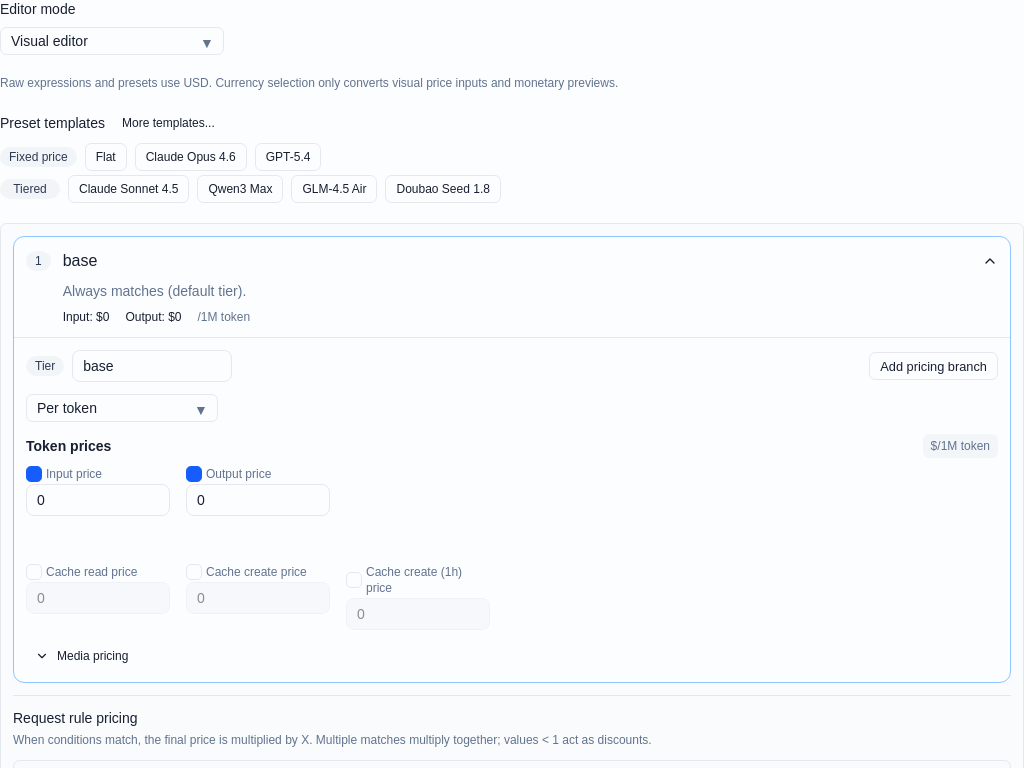
Test: uses condition trees by default without changing pricing:
Check: the button "Add pricing branch" is shown, box [869,352,998,380]
Click the dropdown named "Editor mode" at (112, 41), box [0,27,224,55]
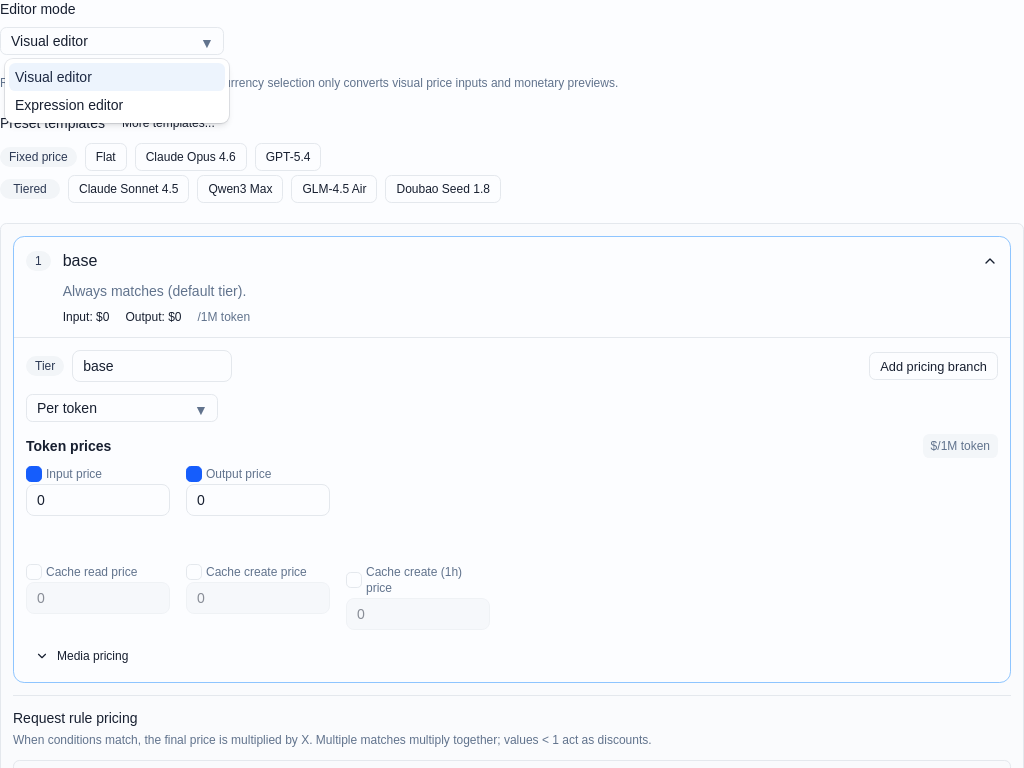
Click the option "Expression editor" at (69, 105), box [15,97,123,113]
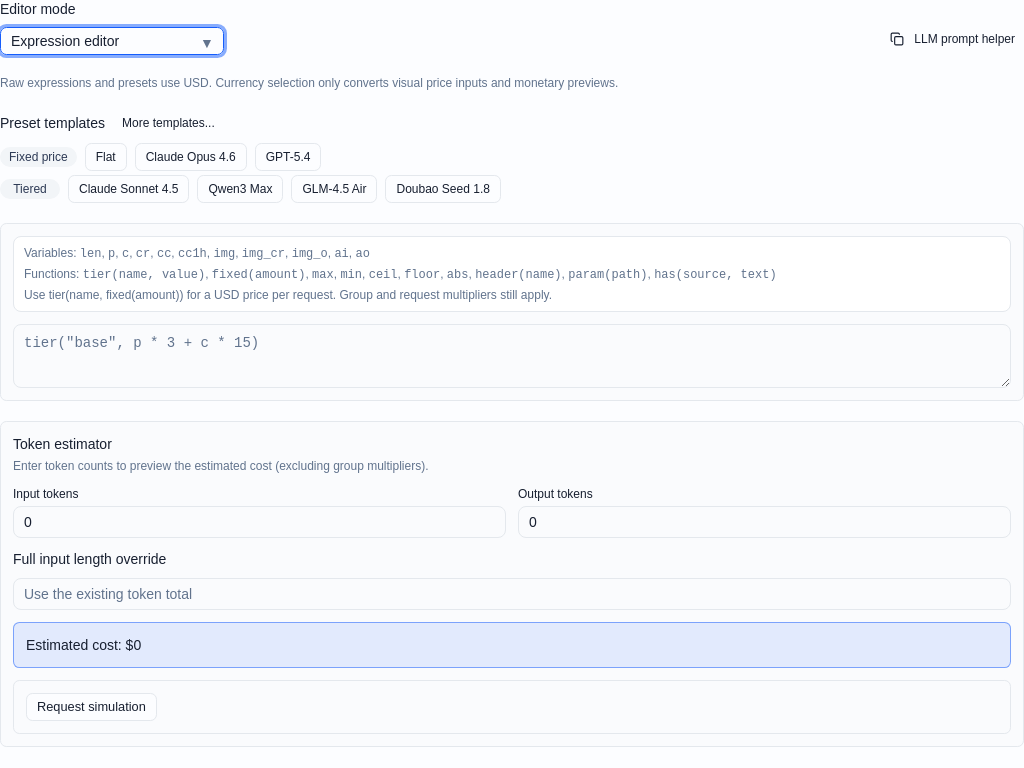
Check: the text box named "Billing expression" is empty, box [13,324,1011,388]
Click the dropdown named "Editor mode" at (112, 41), box [0,27,224,55]
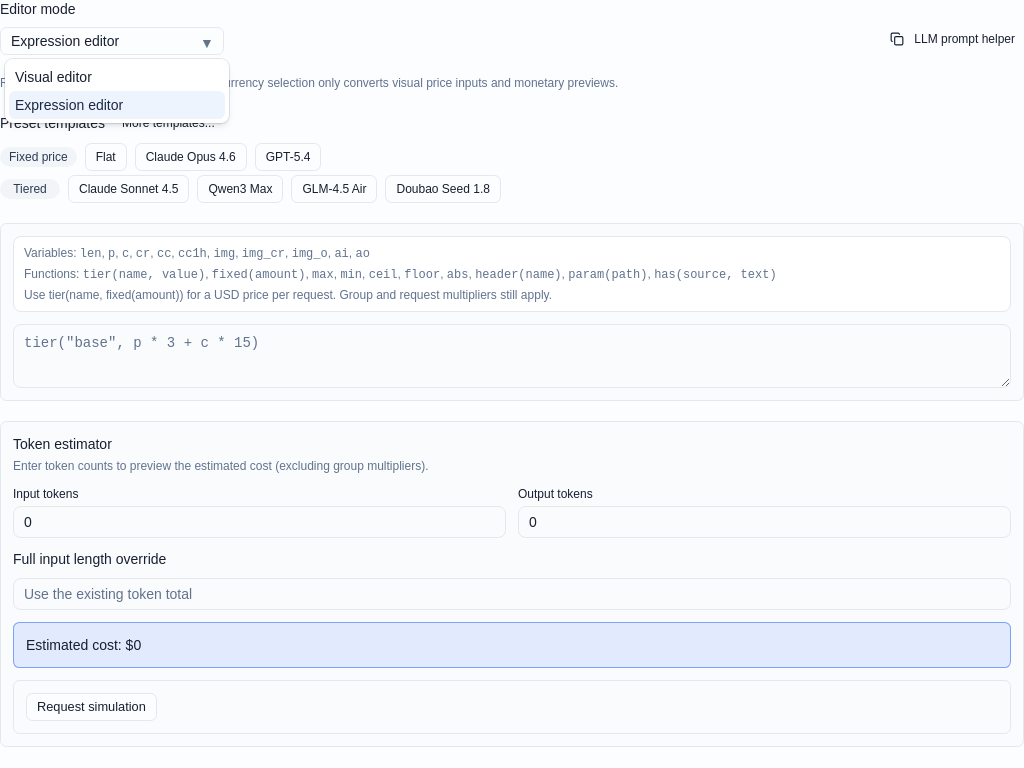
Click the option "Visual editor" at (53, 77), box [15,69,92,85]
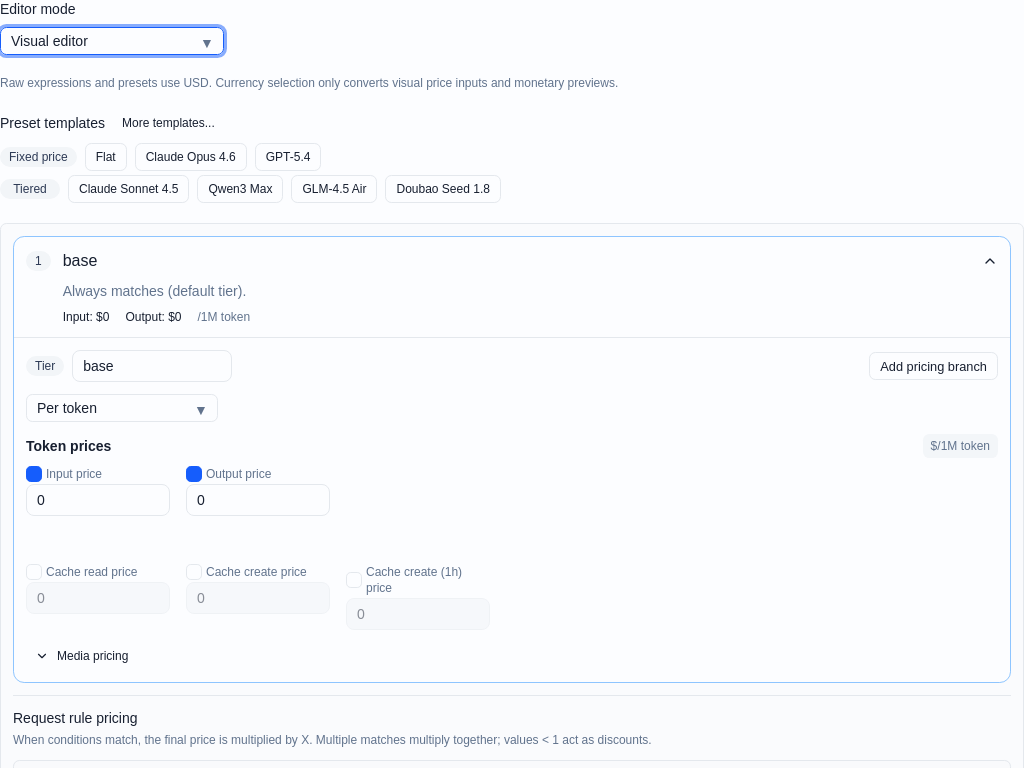
Check: the button "Add pricing branch" is shown, box [869,352,998,380]
